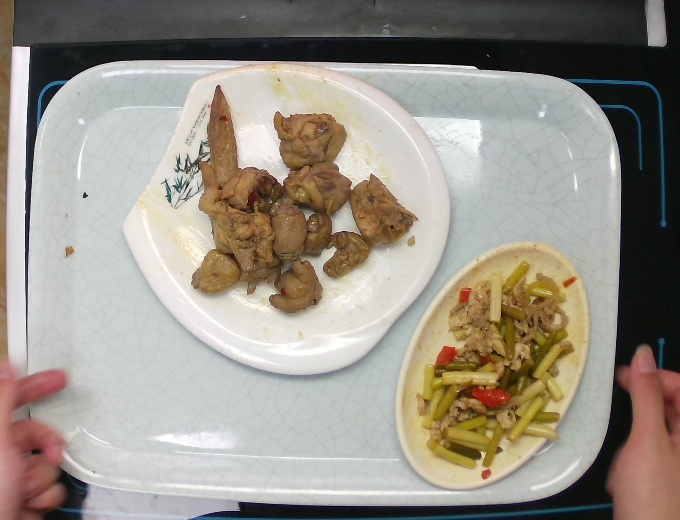JYsf-Mian_Pan: (117, 57, 459, 382)
JYsf-Tuo_Yuan_Wan: (385, 236, 597, 495)
